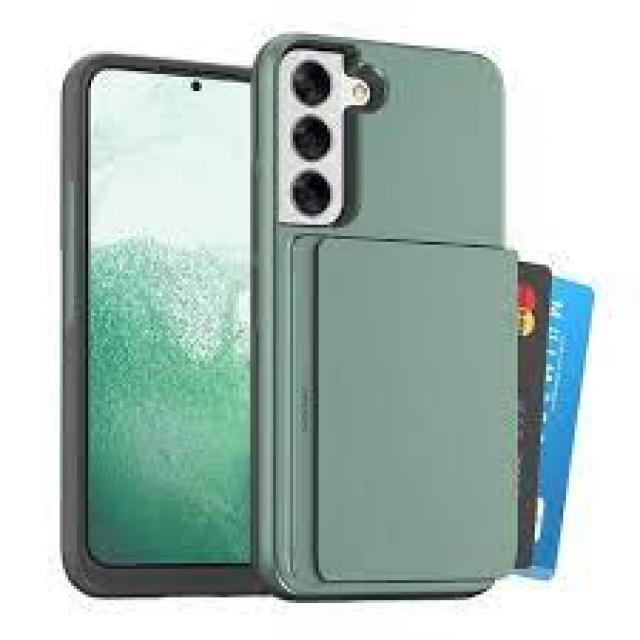Mobile: (250, 24, 513, 608), (49, 46, 258, 605)
